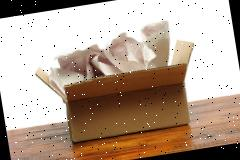paper: (30, 16, 206, 147), (41, 20, 178, 100), (101, 27, 158, 74), (54, 42, 108, 84), (138, 20, 176, 68), (46, 62, 88, 100), (167, 36, 197, 66), (90, 51, 123, 78)
